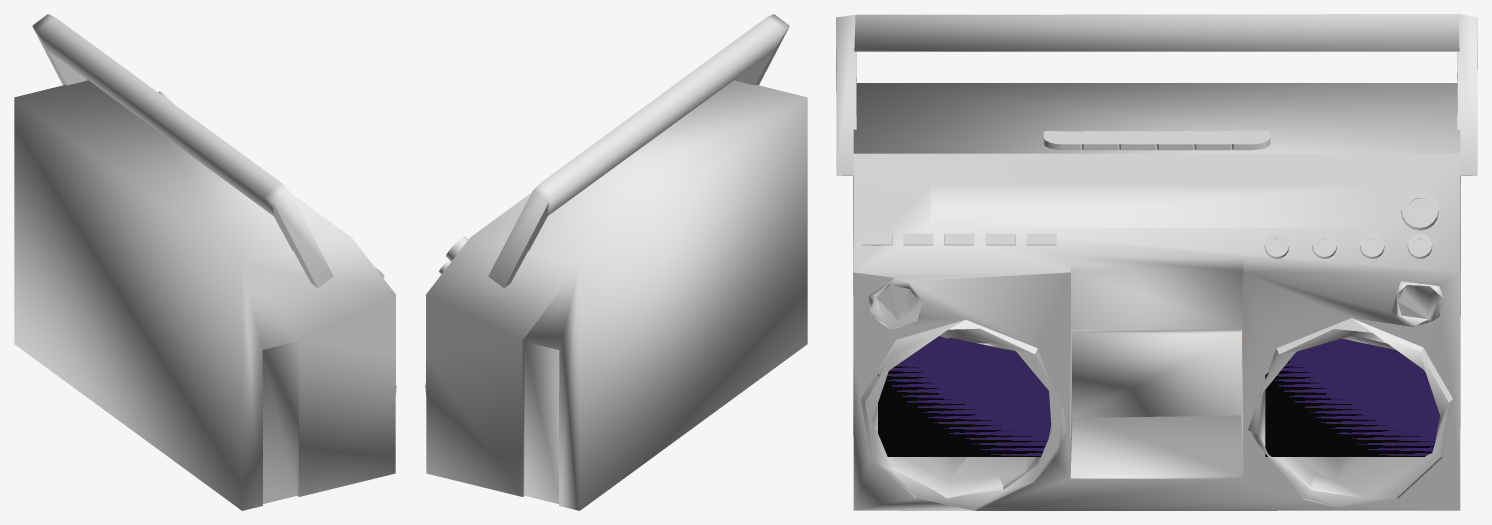
The model's file is Boombox.fbx.
3 views of the same model, side by side, from view 1: azimuth 30°, elevation 25°; view 2: azimuth 150°, elevation 25°; view 3: azimuth 270°, elevation 25° (orthographic). The views are drawn at different scales.
Visible parts, largest first — view 1: boombox; view 2: boombox; view 3: boombox, dizzering, buttons.
Boxes of the visible parts, box(x1,y1,x2,y2) form: boombox: box(14, 14, 396, 510); boombox: box(425, 14, 807, 510); boombox: box(836, 14, 1477, 510); dizzering: box(878, 336, 1439, 456); buttons: box(862, 131, 1438, 258).
Bounding box in the file's own units: 72.34 × 138 × 190.
